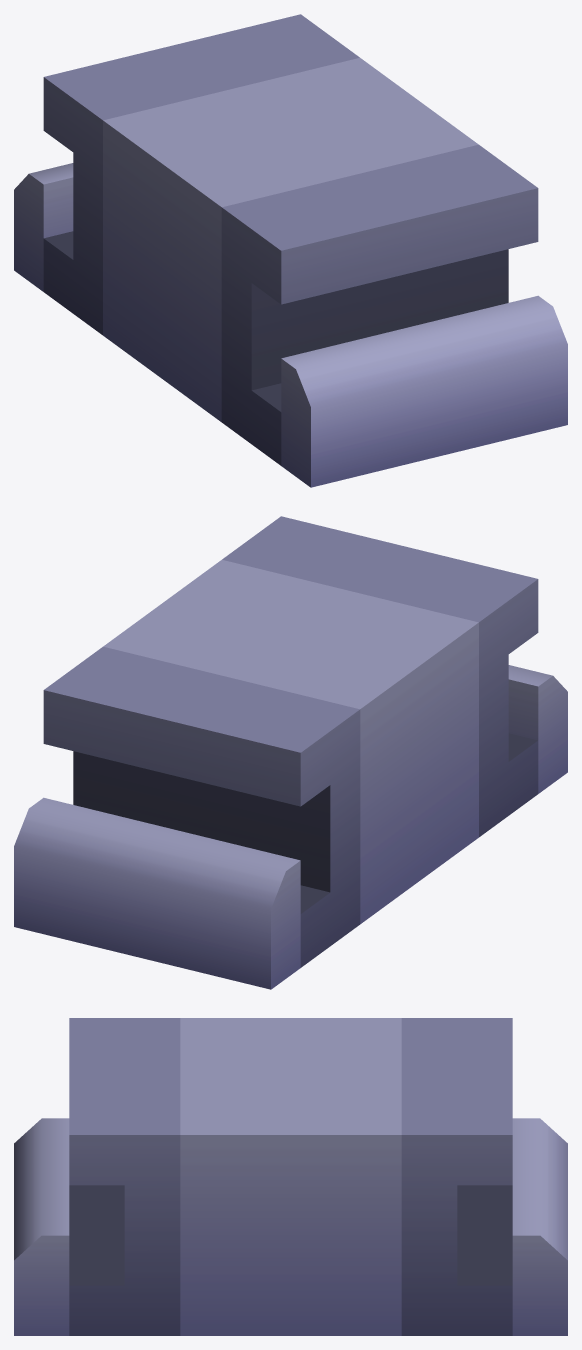
The model's file is kenney-factory-conveyor-long-stripe-sides-part-middle.glb.
3 views of the same model, one above another, from view 1: azimuth 30°, elevation 25°; view 2: azimuth 150°, elevation 25°; view 3: azimuth 270°, elevation 25° (orthographic). The views are drawn at different scales.
Parts seen in each view (by area): view 1: conveyor-long-stripe-sides-part-middle; view 2: conveyor-long-stripe-sides-part-middle; view 3: conveyor-long-stripe-sides-part-middle.
Boxes of the visible parts, <box> form: conveyor-long-stripe-sides-part-middle: <box>14,14,567,487</box>; conveyor-long-stripe-sides-part-middle: <box>14,516,567,989</box>; conveyor-long-stripe-sides-part-middle: <box>14,1018,567,1335</box>.
Bounding box in the file's own units: 0.5001 × 0.3999 × 1.
Materials: 1 (1 with a texture image).
